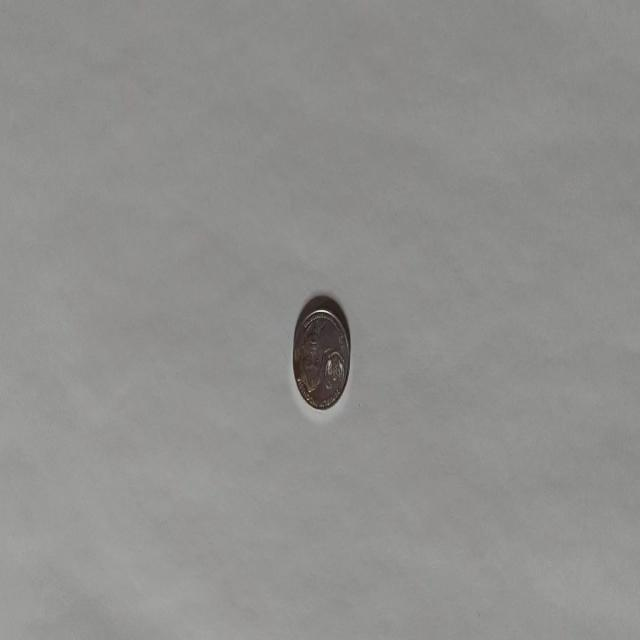dua ratus rupiah: (291, 294, 351, 411)
